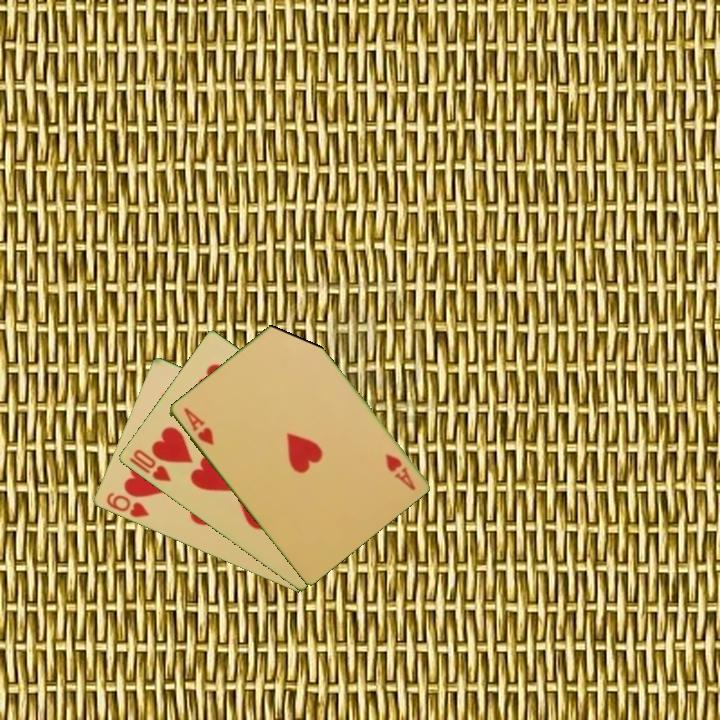10h: (125, 445, 174, 485)
6h: (102, 489, 152, 521)
Ah: (381, 450, 418, 493), (180, 404, 216, 448)
